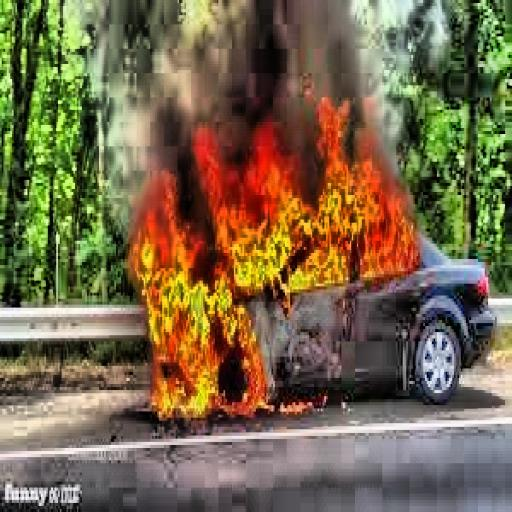fire: (133, 119, 427, 427)
